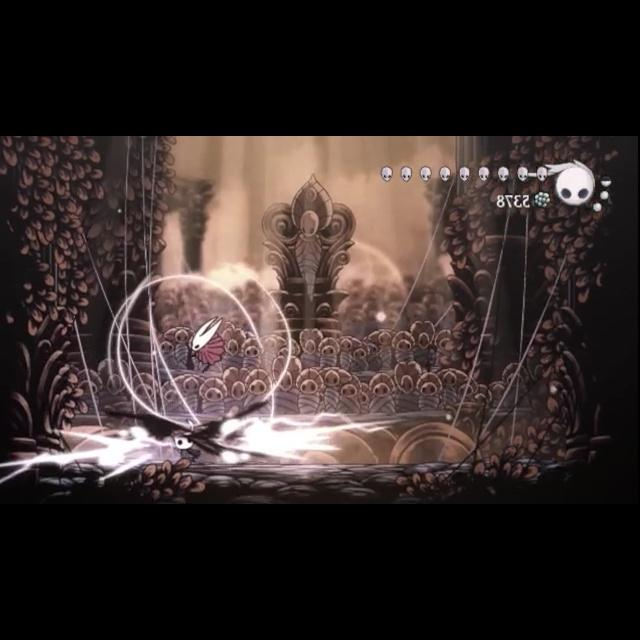EnemyAirAttack: (179, 314, 233, 378), (169, 417, 203, 468)
